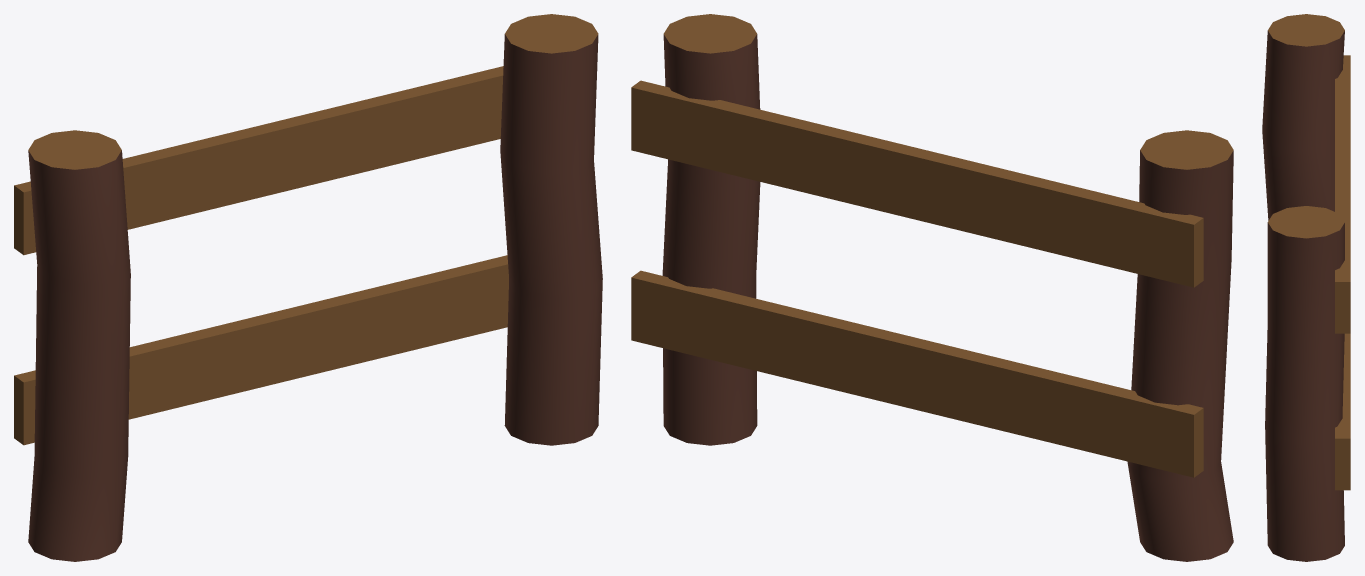
Rendered from WoodSemiRoundFence_Single.fbx.
3 views of the same model, side by side, from view 1: azimuth 30°, elevation 25°; view 2: azimuth 150°, elevation 25°; view 3: azimuth 270°, elevation 25° (orthographic). The views are drawn at different scales.
Visible parts, largest first — view 1: WoodSemiRoundFence_Single; view 2: WoodSemiRoundFence_Single; view 3: WoodSemiRoundFence_Single.
Part boxes in pixels (x1=…): WoodSemiRoundFence_Single: x1=14, y1=14, x2=602, y2=561; WoodSemiRoundFence_Single: x1=631, y1=14, x2=1233, y2=561; WoodSemiRoundFence_Single: x1=1262, y1=14, x2=1350, y2=561.
Bounding box in the file's own units: 264 × 174 × 43.17.
